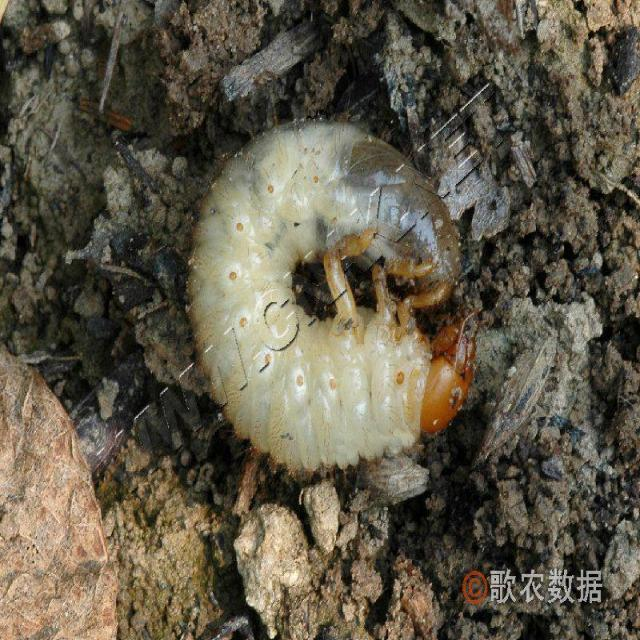Grub-Adult-: (152, 97, 484, 500)
